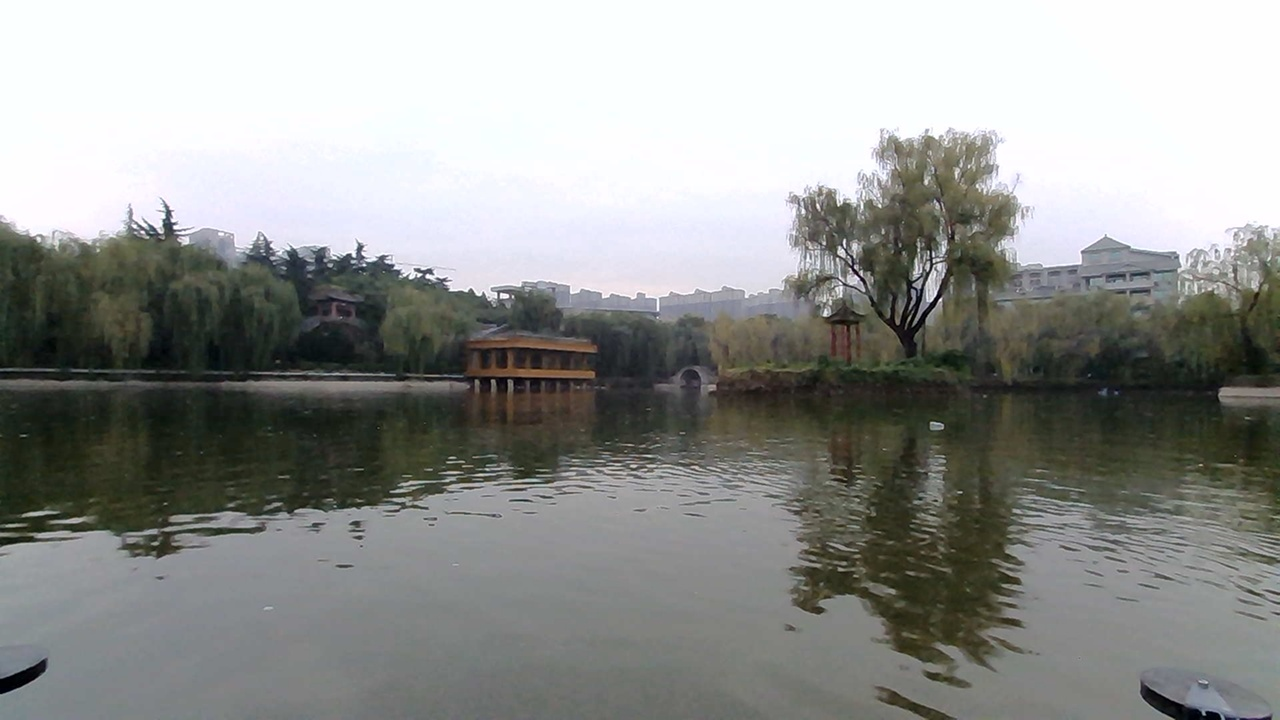bottle: (908, 402, 963, 434)
